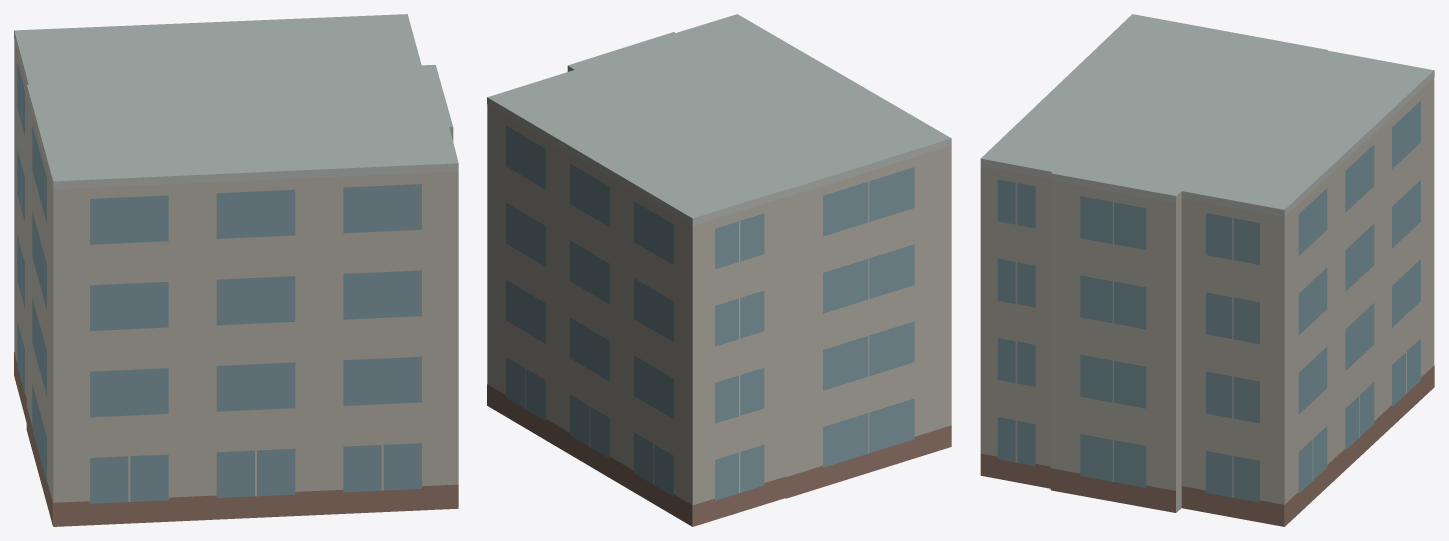
The model's file is survey-upis-32531950.glb.
3 renders of one model, left to right at view 1: azimuth 30°, elevation 25°; view 2: azimuth 150°, elevation 25°; view 3: azimuth 270°, elevation 25°, orthographic. The views are drawn at different scales.
Visible parts, largest first — view 1: survey-upis-32531950.tmp; view 2: survey-upis-32531950.tmp; view 3: survey-upis-32531950.tmp.
Part boxes in pixels (x1,y1,x2,y2): survey-upis-32531950.tmp: [14, 14, 458, 526]; survey-upis-32531950.tmp: [487, 14, 951, 526]; survey-upis-32531950.tmp: [980, 14, 1434, 526].
Size of the model in its own units: 13.92 by 10.5 by 13.63.
